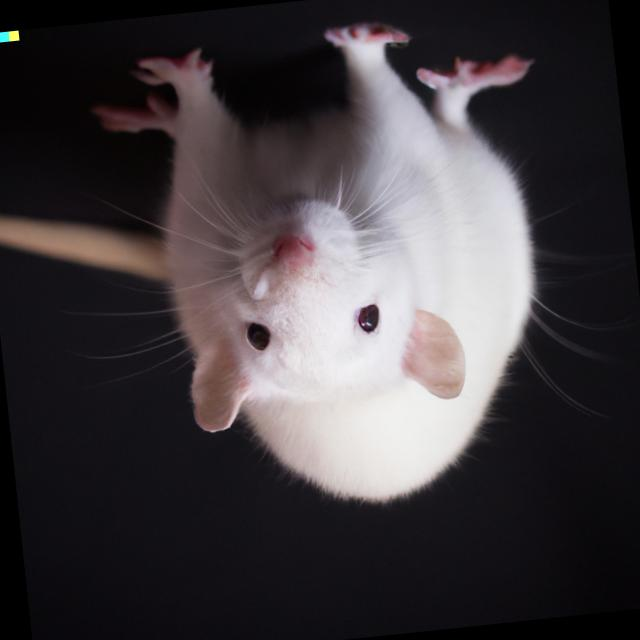rodents: (81, 7, 583, 548)
